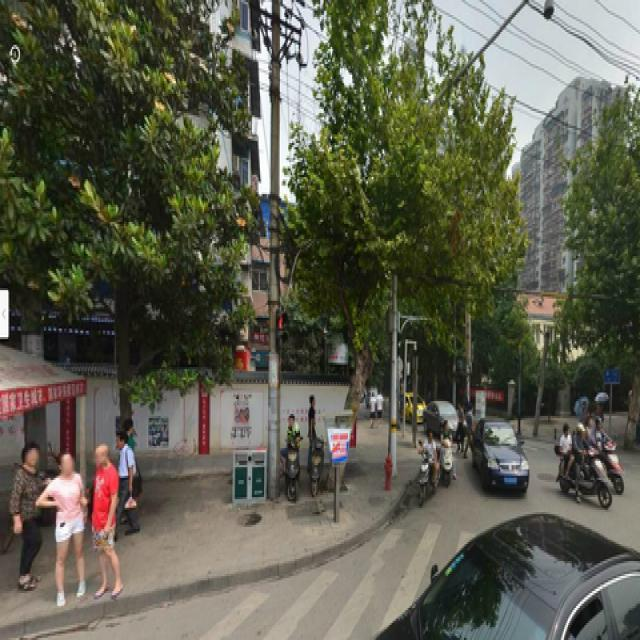magn: (28, 6, 236, 463)
